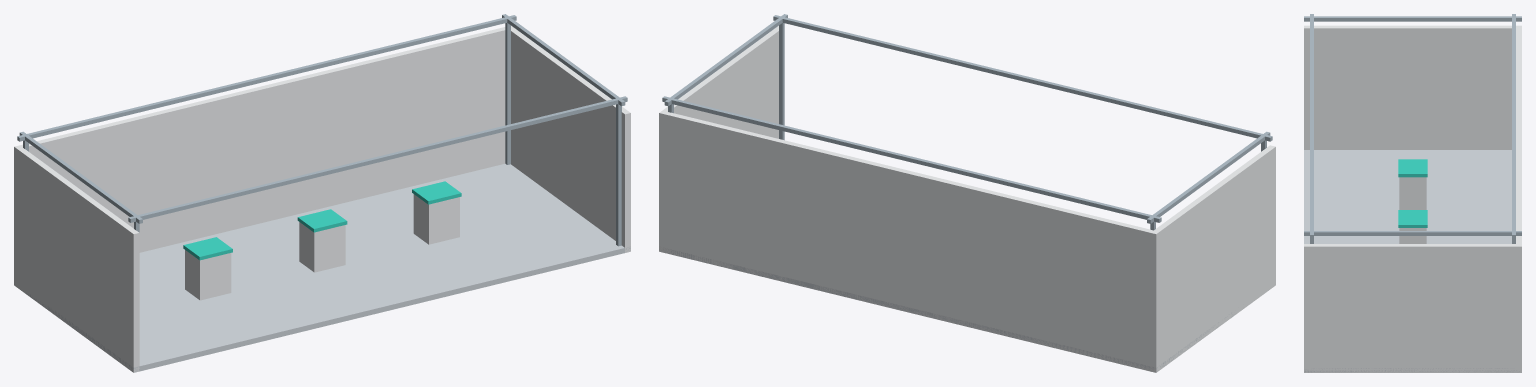
3 renders of one model, left to right at view 1: azimuth 30°, elevation 25°; view 2: azimuth 150°, elevation 25°; view 3: azimuth 270°, elevation 25°, orthographic. The views are drawn at different scales.
Visible parts, largest first — view 1: Exhibition Booth Concept; view 2: Exhibition Booth Concept; view 3: Exhibition Booth Concept.
Part boxes in pixels (x1,y1,x2,y2): Exhibition Booth Concept: [14, 14, 630, 372]; Exhibition Booth Concept: [659, 14, 1275, 372]; Exhibition Booth Concept: [1304, 14, 1521, 372].
Bounding box in the file's own units: 12 × 3.49 × 5.
